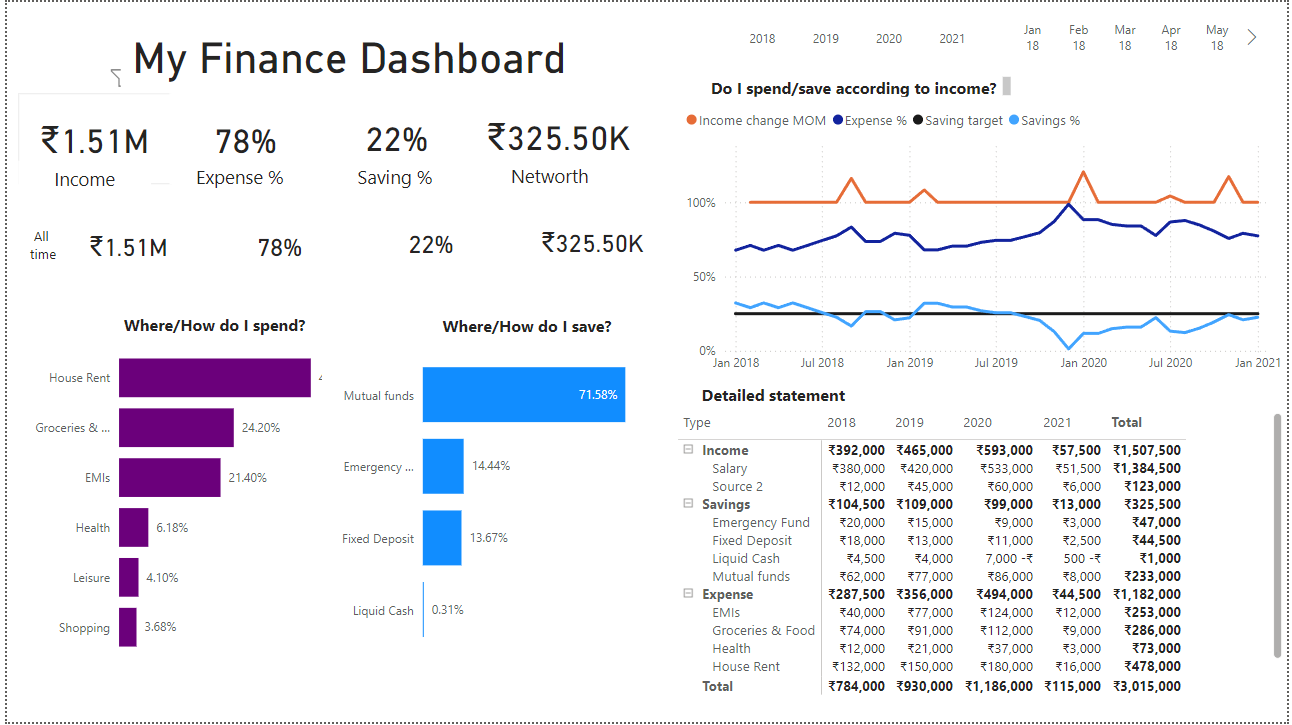

Layout of this report page (visuals, bound fields, positions):
{"tool":"powerbi","page":{"name":"Main board","canvas":[1280,720],"ordinal":0},"visuals":[{"type":"card","fields":{"Values":["key measure.Total Income"]},"box":[11.4,91.4,152.9,91.4],"z":0},{"type":"card","fields":{"Values":["key measure.Expense %"]},"box":[162.4,91.4,152.9,91.4],"z":1000},{"type":"card","fields":{"Values":["key measure.Savings %"]},"box":[313.3,88.6,152.9,91.4],"z":2000},{"type":"card","fields":{"Values":["key measure.Total Savings"]},"box":[464.3,87.1,175.7,91.4],"z":3000},{"type":"textbox","box":[26.1,323.8,152.3,57.6],"z":4000},{"type":"textbox","box":[11.4,158.6,132.9,44.3],"z":5000},{"type":"textbox","box":[166.2,157.1,132.9,45.7],"z":6000},{"type":"textbox","box":[321,157.1,132.9,44.3],"z":7000},{"type":"textbox","box":[475.7,155.7,132.9,44.3],"z":8000},{"type":"slicer","fields":{"Values":["FinData.Year"]},"box":[698.8,3.8,301.2,66.2],"z":9000},{"type":"slicer","fields":{"Values":["FinData.Date"]},"box":[977.1,0,278.6,70],"z":10000},{"type":"card","fields":{"Values":["key measure.Total Income"]},"box":[45.2,199.1,152.9,91.4],"z":11000},{"type":"card","fields":{"Values":["key measure.Expense %"]},"box":[196.2,199.1,152.9,91.4],"z":12000},{"type":"card","fields":{"Values":["key measure.Savings %"]},"box":[347.1,196.3,152.9,91.4],"z":13000},{"type":"card","fields":{"Values":["key measure.Total Savings"]},"box":[498.1,194.9,175.7,91.4],"z":14000},{"type":"textbox","box":[2.4,220.1,67.1,45.7],"z":15000},{"type":"card","fields":{"Values":["key measure.Title"]},"box":[113.8,11.2,457.5,80],"z":16000},{"type":"clusteredBarChart","fields":{"Category":["FinData.Component"],"Y":["key measure.Total Expense"]},"box":[11.4,324.3,351.4,347.1],"z":17000},{"type":"textbox","box":[77.5,306.2,260,46.2],"z":18000},{"type":"clusteredBarChart","fields":{"Category":["FinData.Component"],"Y":["key measure.Total Savings"]},"box":[315,323.8,351.2,347.5],"z":19000},{"type":"textbox","box":[390,307.5,260,46.2],"z":20000},{"type":"lineChart","fields":{"Y":["key measure.Income change MOM","key measure.Expense %","key measure.Saving target","key measure.Savings %"],"Category":["FinData.Date"]},"box":[673.8,97.5,606.2,281.2],"z":21000},{"type":"textbox","box":[692.5,70,316.2,30],"z":22000},{"type":"pivotTable","fields":{"Columns":["FinData.Year","FinData.Date"],"Values":["key measure.Values"],"Rows":["Type.Type","FinData.Component"]},"box":[666.2,406.2,613.8,291.2],"z":23000},{"type":"textbox","box":[636.2,376.2,260,37.5],"z":24000}]}

Visuals, with their boxes in screenshot pixels (x1, y1, x2, y2), scaled from the page's 1280x720 canvas onto the 1292x725 screenshot:
card - key measure.Total Income: <box>12,92,166,184</box>
card - key measure.Expense %: <box>164,92,318,184</box>
card - key measure.Savings %: <box>316,89,471,181</box>
card - key measure.Total Savings: <box>469,88,646,180</box>
textbox: <box>26,326,180,384</box>
textbox: <box>12,160,146,204</box>
textbox: <box>168,158,302,204</box>
textbox: <box>324,158,458,203</box>
textbox: <box>480,157,614,201</box>
slicer - FinData.Year: <box>705,4,1009,70</box>
slicer - FinData.Date: <box>986,0,1267,70</box>
card - key measure.Total Income: <box>46,200,200,293</box>
card - key measure.Expense %: <box>198,200,352,293</box>
card - key measure.Savings %: <box>350,198,505,290</box>
card - key measure.Total Savings: <box>503,196,680,288</box>
textbox: <box>2,222,70,268</box>
card - key measure.Title: <box>115,11,577,92</box>
clusteredBarChart - FinData.Component x key measure.Total Expense: <box>12,327,366,676</box>
textbox: <box>78,308,341,355</box>
clusteredBarChart - FinData.Component x key measure.Total Savings: <box>318,326,672,676</box>
textbox: <box>394,310,656,356</box>
lineChart - key measure.Income change MOM x key measure.Expense %: <box>680,98,1291,381</box>
textbox: <box>699,70,1018,101</box>
pivotTable - FinData.Year x FinData.Date: <box>672,409,1291,702</box>
textbox: <box>642,379,905,417</box>
